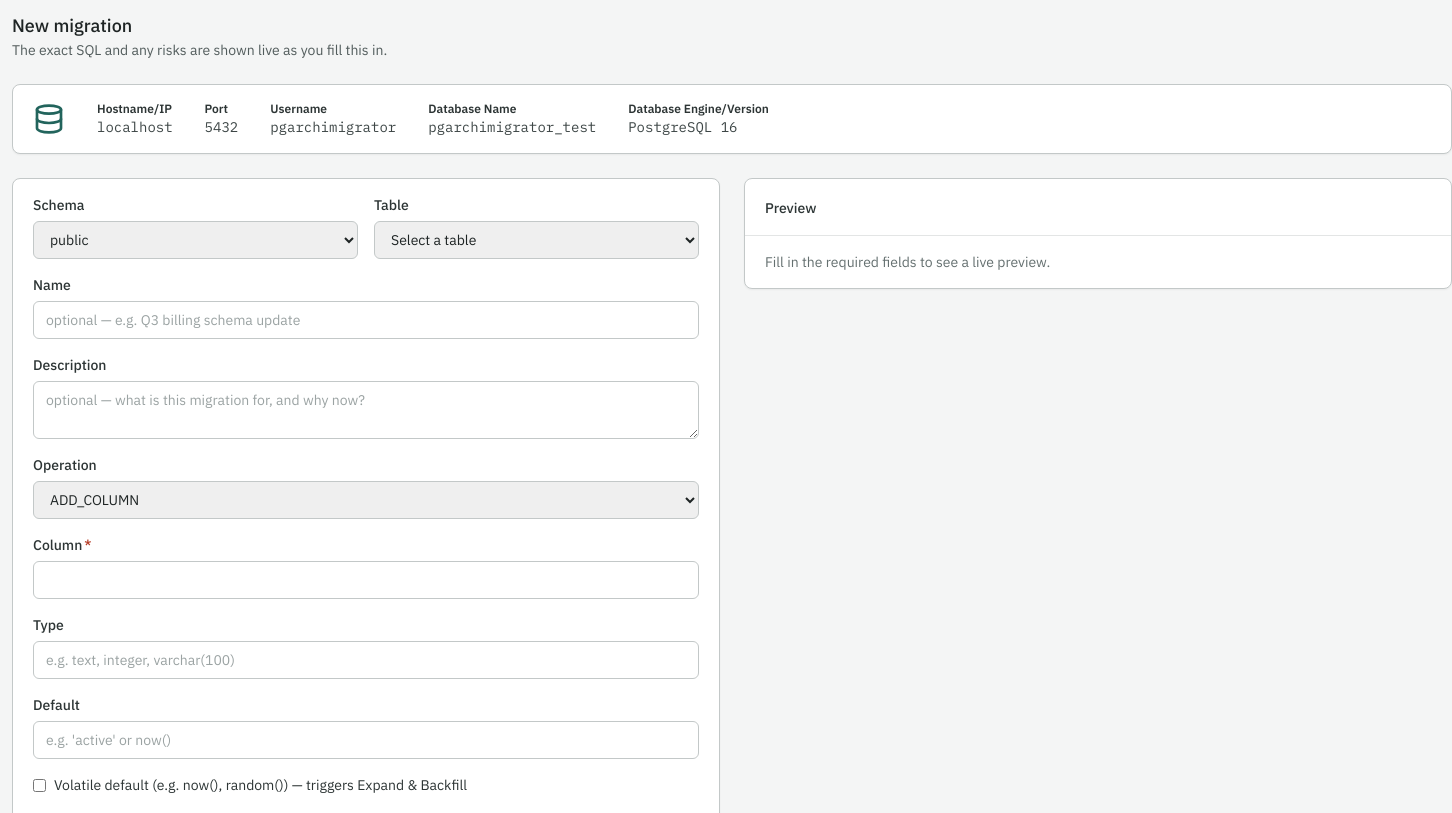
Test: NewMigration — table overview panel › shows an empty-table message when the table has no rows
The image size is (1452, 813).
Select "orders" in the dropdown labelled "Table": (536, 240) [374,221,699,259]
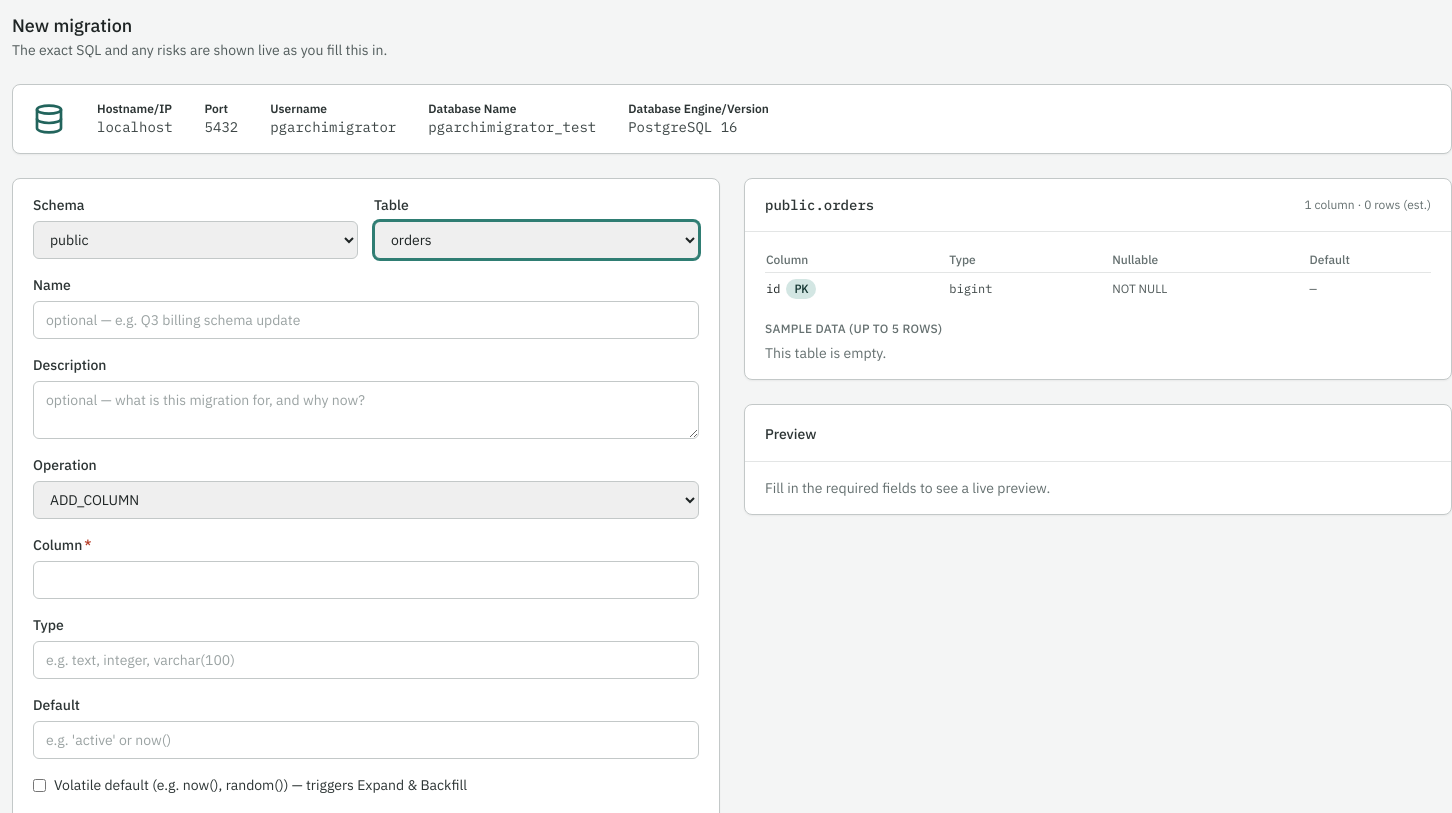
Now the text "This table is empty." is shown, box [765,344,886,362]
